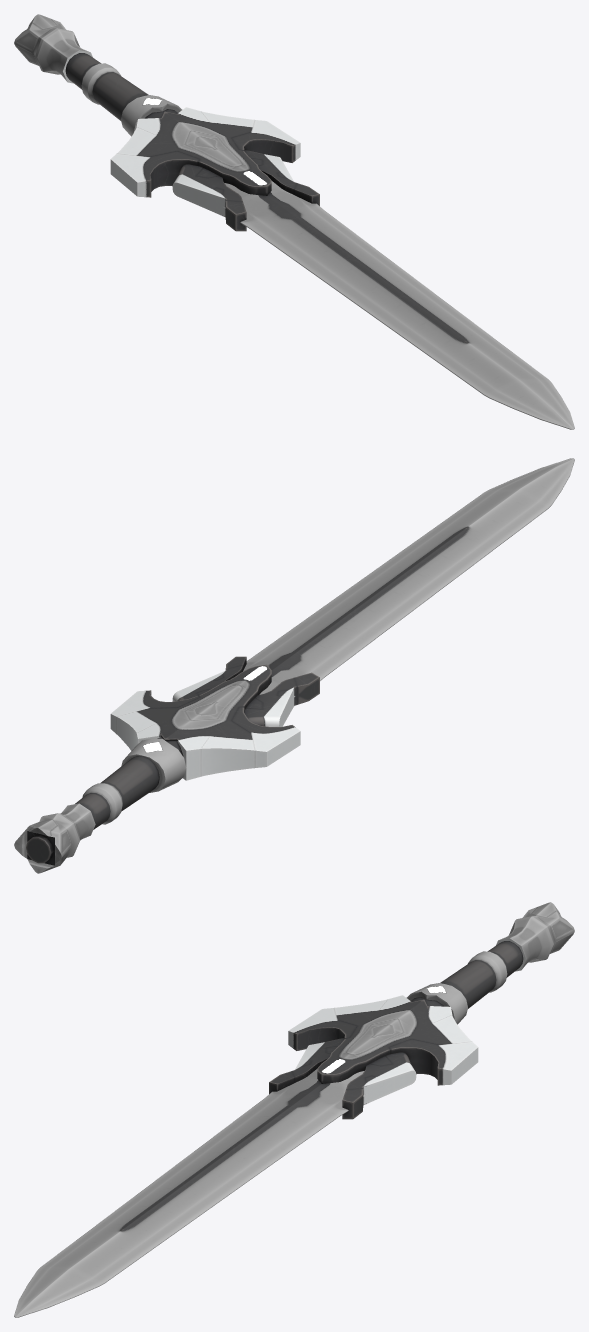
Rendered from MeleeSword01_1.FBX.
The picture shows the model from 3 angles, top to bottom: view 1: azimuth 30°, elevation 25°; view 2: azimuth 150°, elevation 25°; view 3: azimuth 330°, elevation 25°; orthographic projection.
Parts seen in each view (by area): view 1: MeleeSword01_1; view 2: MeleeSword01_1; view 3: MeleeSword01_1.
Boxes of the visible parts, box(x1,y1,x2,y2) form: MeleeSword01_1: box(14, 14, 574, 429); MeleeSword01_1: box(14, 458, 574, 873); MeleeSword01_1: box(14, 902, 574, 1317).
Size of what is drawn, in the model's own units: 0.2333 by 0.0627 by 1.33.
